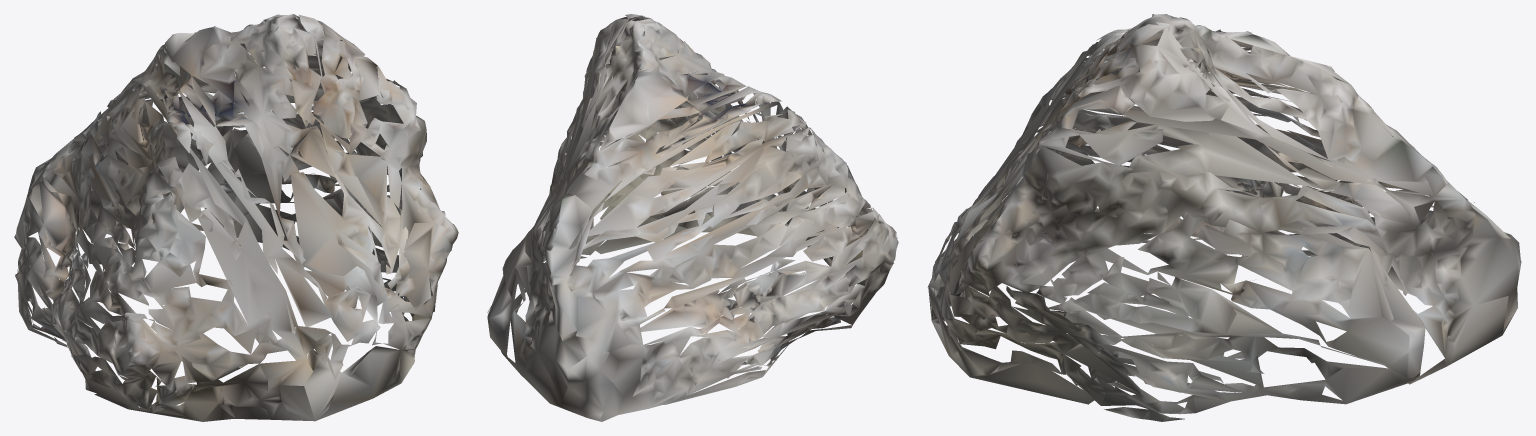
3 renders of one model, left to right at view 1: azimuth 30°, elevation 25°; view 2: azimuth 150°, elevation 25°; view 3: azimuth 270°, elevation 25°, orthographic. The views are drawn at different scales.
Visible parts, largest first — view 1: Geode; view 2: Geode; view 3: Geode.
Part boxes in pixels (bbox=[...]): Geode: bbox=[14, 14, 458, 421]; Geode: bbox=[487, 14, 898, 421]; Geode: bbox=[927, 14, 1521, 421].
Bounding box in the file's own units: 4.32 × 3.77 × 5.9.
